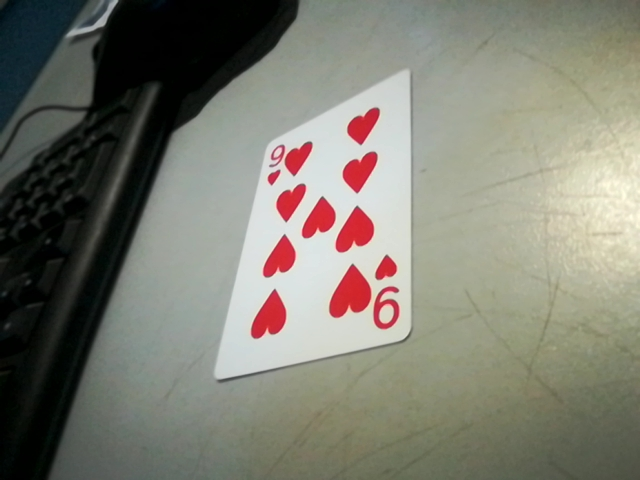hx 9: (372, 251, 410, 336)
